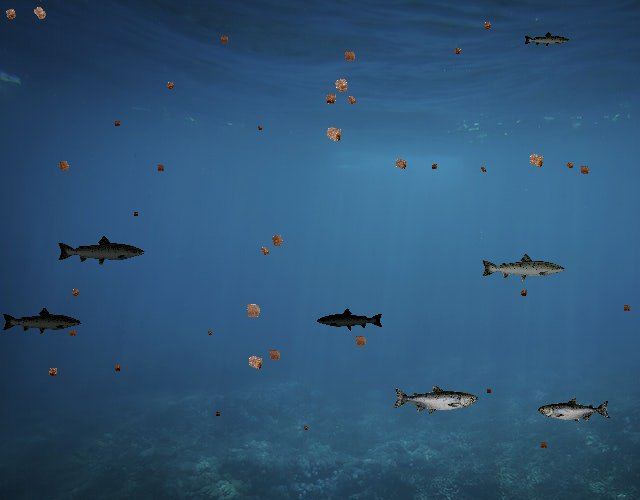Fish: (57, 234, 147, 267), (480, 252, 566, 283), (392, 384, 478, 415), (2, 306, 83, 335), (539, 397, 612, 423), (317, 308, 385, 332), (524, 31, 571, 48)
Pellet: (0, 3, 22, 25), (575, 161, 594, 180), (342, 90, 361, 109), (428, 161, 441, 174), (111, 117, 123, 129), (204, 328, 214, 338)
